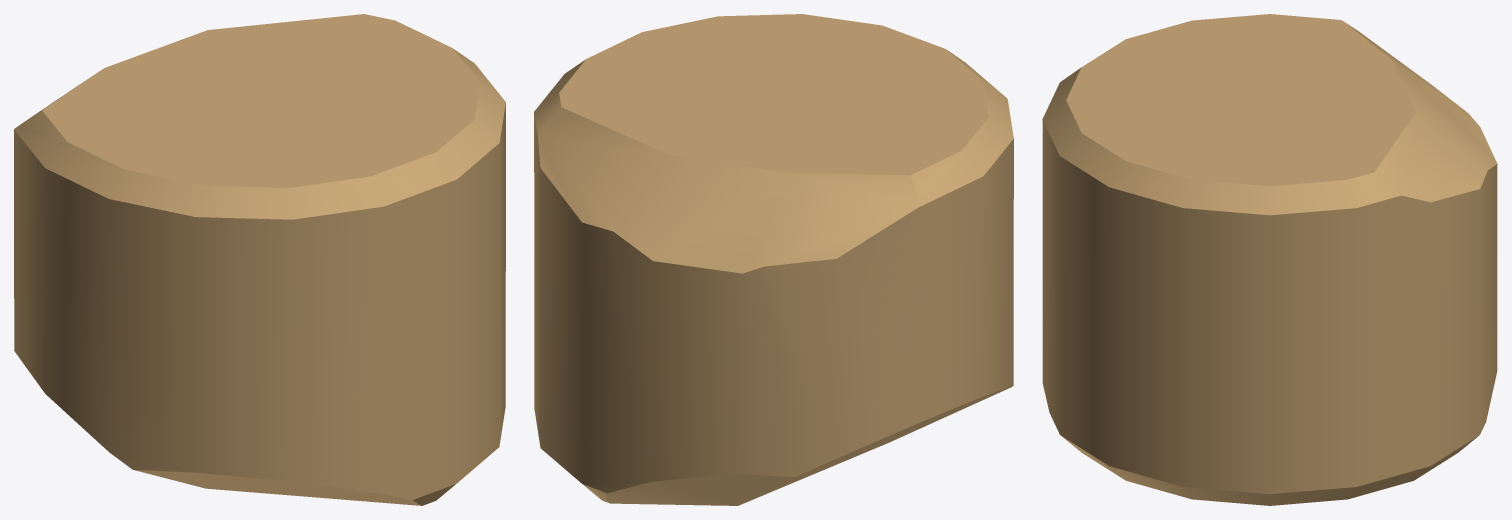
The model's file is BrokenRuin_pillarSegment_01.fbx.
The picture shows the model from 3 angles, left to right: view 1: azimuth 30°, elevation 25°; view 2: azimuth 150°, elevation 25°; view 3: azimuth 270°, elevation 25°; orthographic projection. The views are drawn at different scales.
Visible parts, largest first — view 1: pillarSegmentSmall; view 2: pillarSegmentSmall; view 3: pillarSegmentSmall.
Boxes of the visible parts, x1=… form: pillarSegmentSmall: x1=14, y1=14, x2=505, y2=505; pillarSegmentSmall: x1=534, y1=14, x2=1013, y2=505; pillarSegmentSmall: x1=1042, y1=14, x2=1497, y2=505.
Bounding box in the file's own units: 123 × 95.68 × 123.
